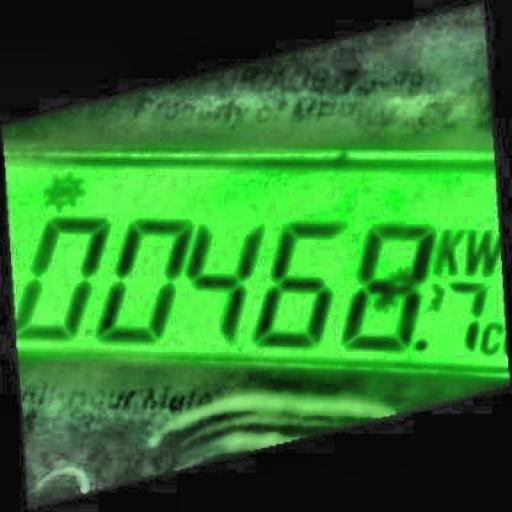DISPLAY_REGION: (3, 136, 512, 385)
SERIAL_REGION: (9, 211, 502, 359)
